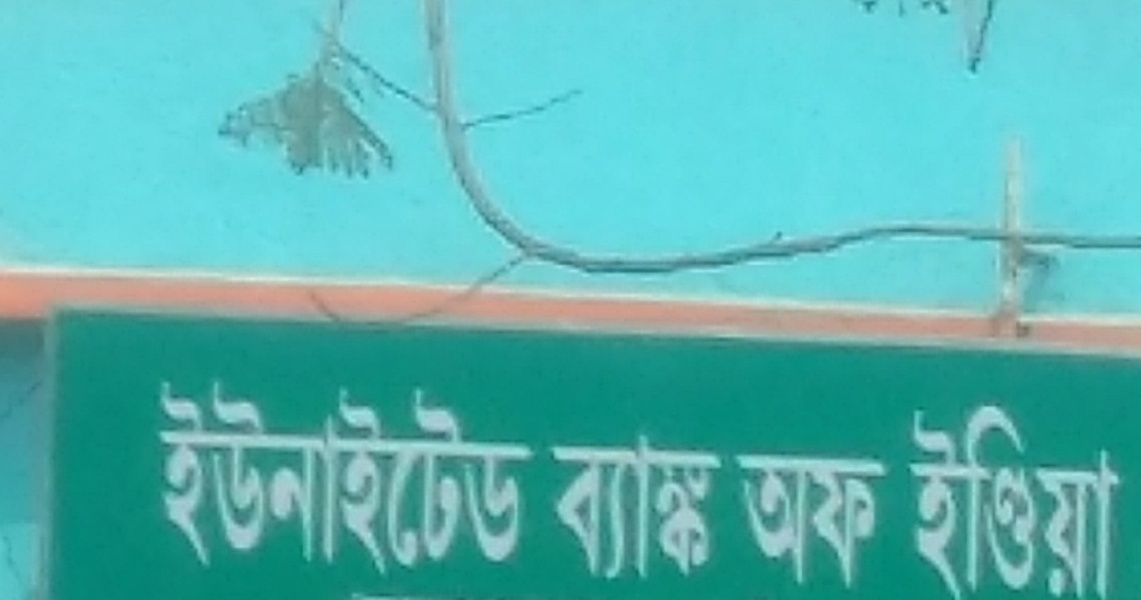text: (161, 374, 176, 583), (177, 374, 192, 583), (193, 374, 208, 583), (209, 374, 224, 583), (225, 374, 240, 583), (241, 374, 256, 583), (257, 374, 272, 583), (273, 374, 288, 583), (289, 374, 304, 583), (305, 374, 320, 583), (321, 374, 336, 583), (337, 374, 352, 583), (353, 374, 368, 583), (369, 374, 384, 583), (385, 374, 400, 583), (401, 374, 416, 583), (417, 374, 432, 583), (433, 374, 448, 583), (449, 374, 464, 583), (465, 374, 480, 583), (481, 374, 496, 583), (497, 374, 512, 583), (513, 374, 528, 583), (913, 397, 928, 600), (929, 397, 944, 600), (945, 397, 960, 600), (961, 397, 976, 600), (977, 397, 992, 600), (993, 397, 1008, 600), (1009, 397, 1024, 600), (1025, 397, 1040, 600), (1041, 397, 1056, 600), (1057, 397, 1072, 600), (1073, 397, 1088, 600), (1089, 397, 1104, 600), (1105, 397, 1120, 600), (529, 374, 541, 583), (900, 397, 912, 600), (561, 426, 576, 585), (577, 426, 592, 585), (593, 426, 608, 585), (609, 426, 624, 585), (625, 426, 640, 585), (641, 426, 656, 585), (657, 426, 672, 585), (673, 426, 688, 585), (689, 426, 704, 585), (705, 426, 720, 585), (546, 426, 560, 585), (737, 449, 752, 594), (753, 449, 768, 594), (769, 449, 784, 594), (785, 449, 800, 594), (801, 449, 816, 594), (817, 449, 832, 594), (833, 449, 848, 594), (849, 449, 864, 594), (865, 449, 880, 594), (150, 374, 160, 583), (881, 449, 890, 594), (721, 426, 728, 585), (734, 449, 736, 594), (1121, 397, 1122, 600)
